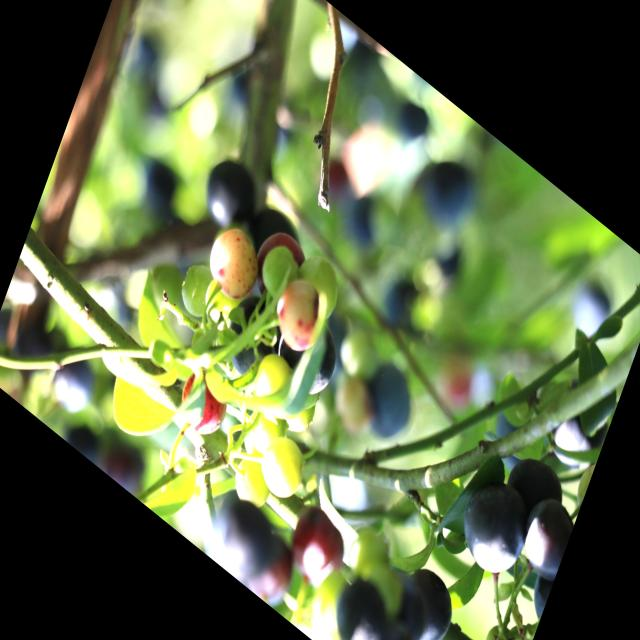blueberry: (451, 466, 536, 588), (270, 289, 352, 404), (216, 285, 286, 388), (389, 551, 464, 640), (502, 440, 572, 534), (197, 147, 262, 240), (519, 491, 576, 582), (326, 572, 395, 640)
blueberry-halfripe: (284, 500, 353, 597), (248, 217, 309, 312), (202, 218, 265, 308), (270, 271, 330, 362), (175, 368, 233, 448)
blueberry-unripe: (292, 245, 348, 323), (256, 427, 308, 508), (246, 343, 294, 417), (228, 452, 276, 518), (176, 253, 220, 323), (256, 238, 299, 306), (198, 273, 242, 336), (280, 389, 318, 446), (477, 618, 520, 640)
